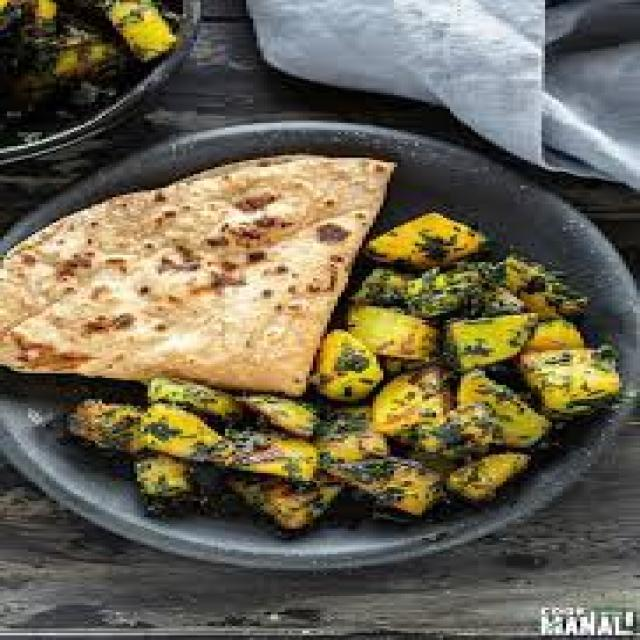Aloo Methi: (55, 228, 623, 530)
